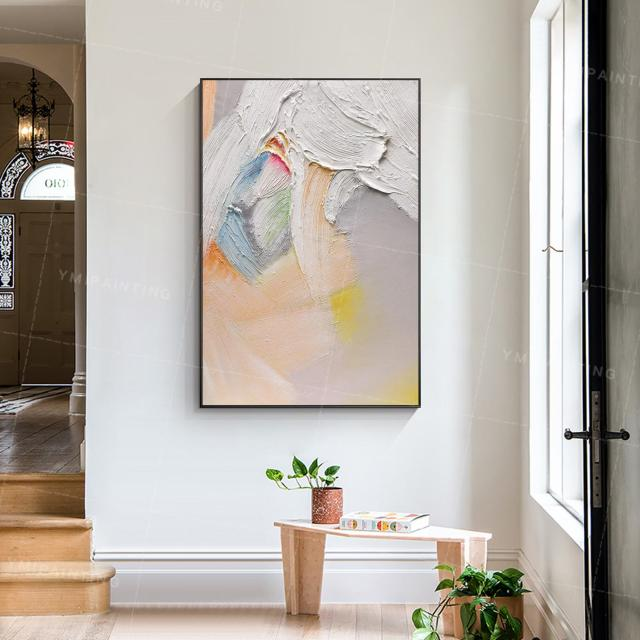painting: (199, 77, 420, 406)
